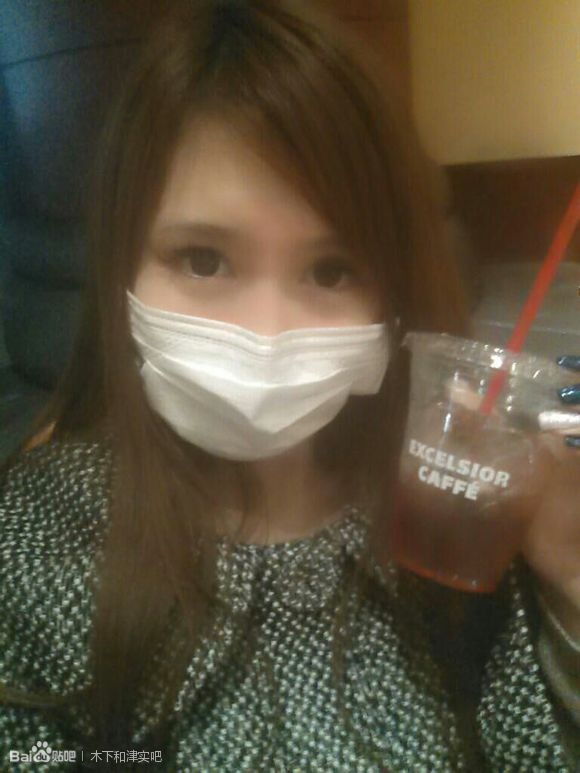face_mask: (131, 147, 382, 462)
